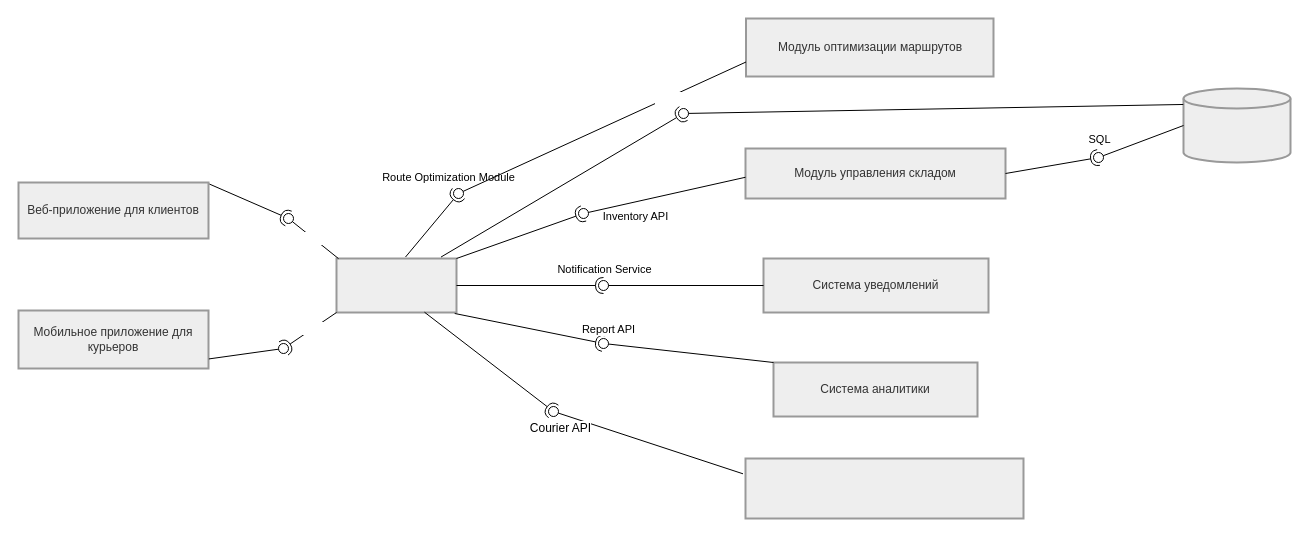
The diagram is 1308 pixels wide and 536 high, and some of its shapes have lost their labels. Here are the shapes that lost their labels. From the top down, the centre of each, then its label:
At point (1236, 125): "База данных".
At point (396, 285): "Backend".
At point (884, 488): "Модуль интеграции с курьерскими службами".
